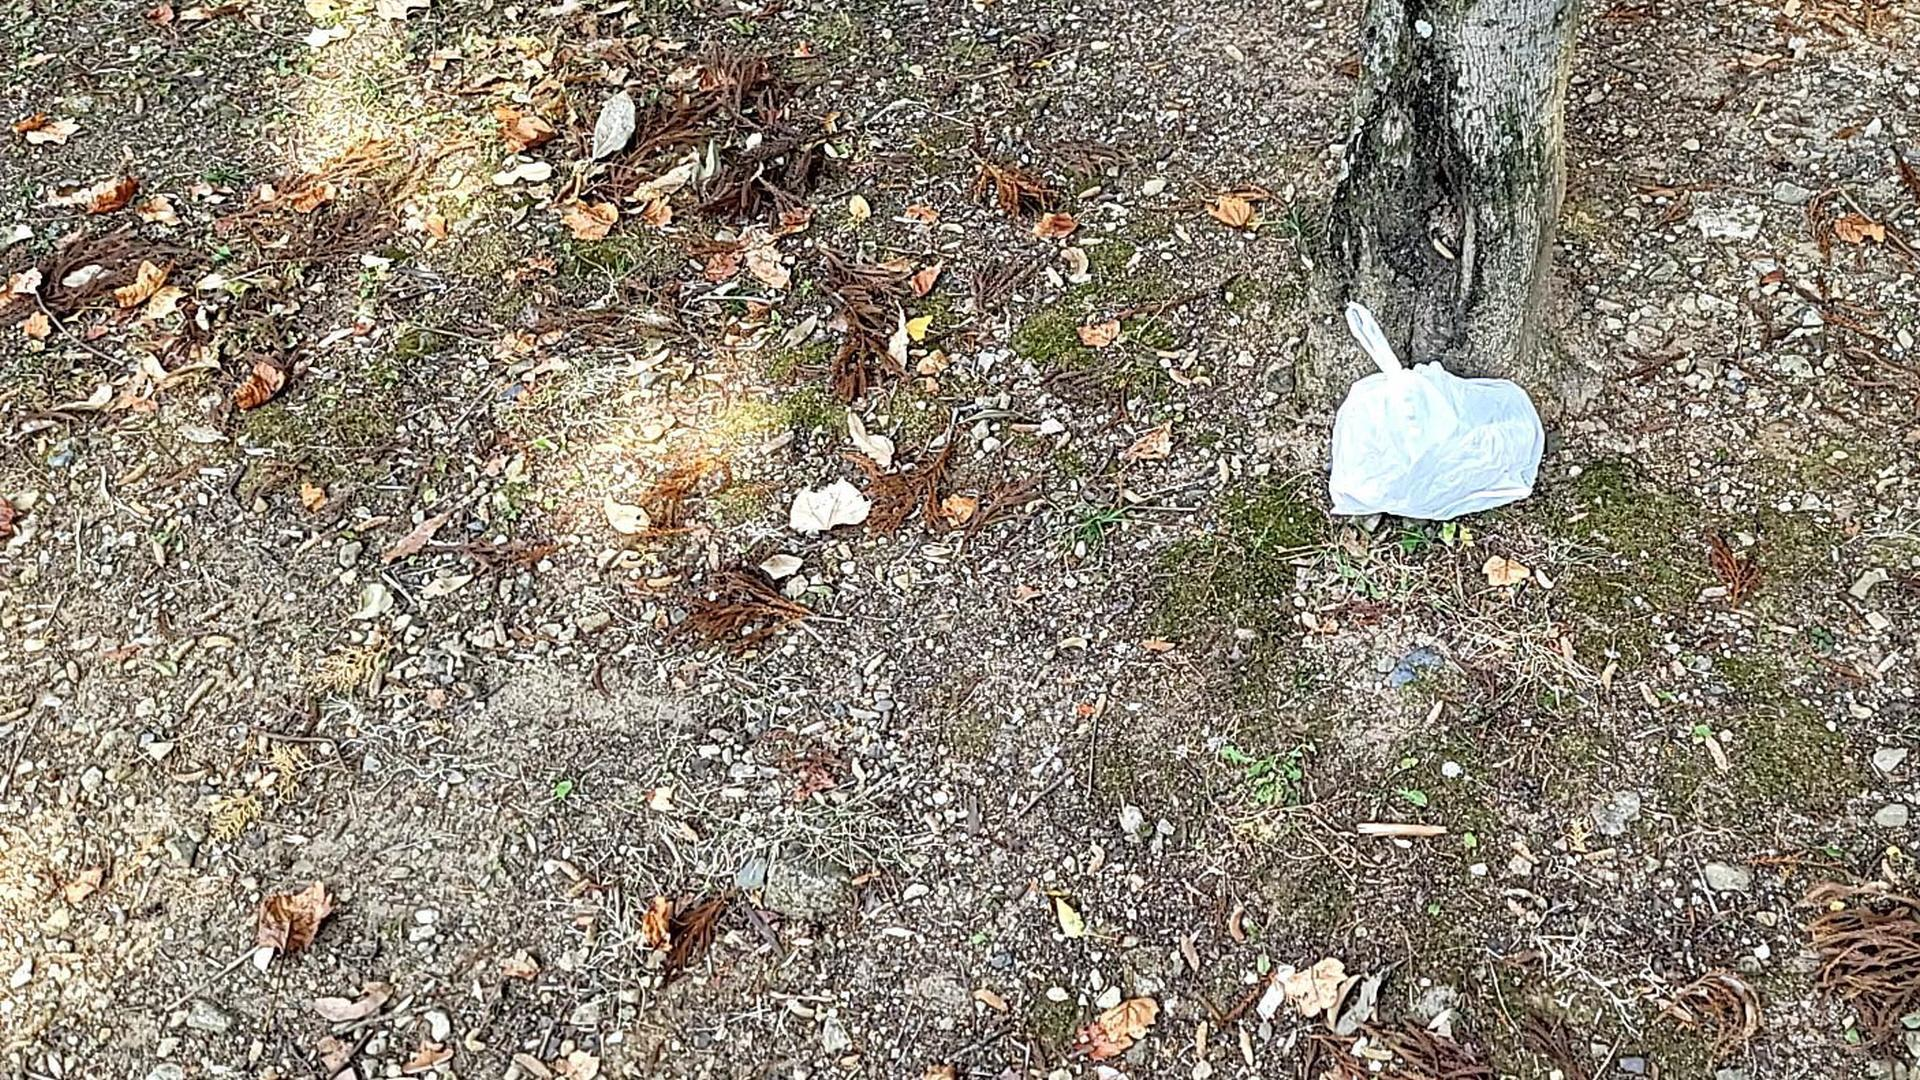white_bag: (1294, 285, 1557, 530)
